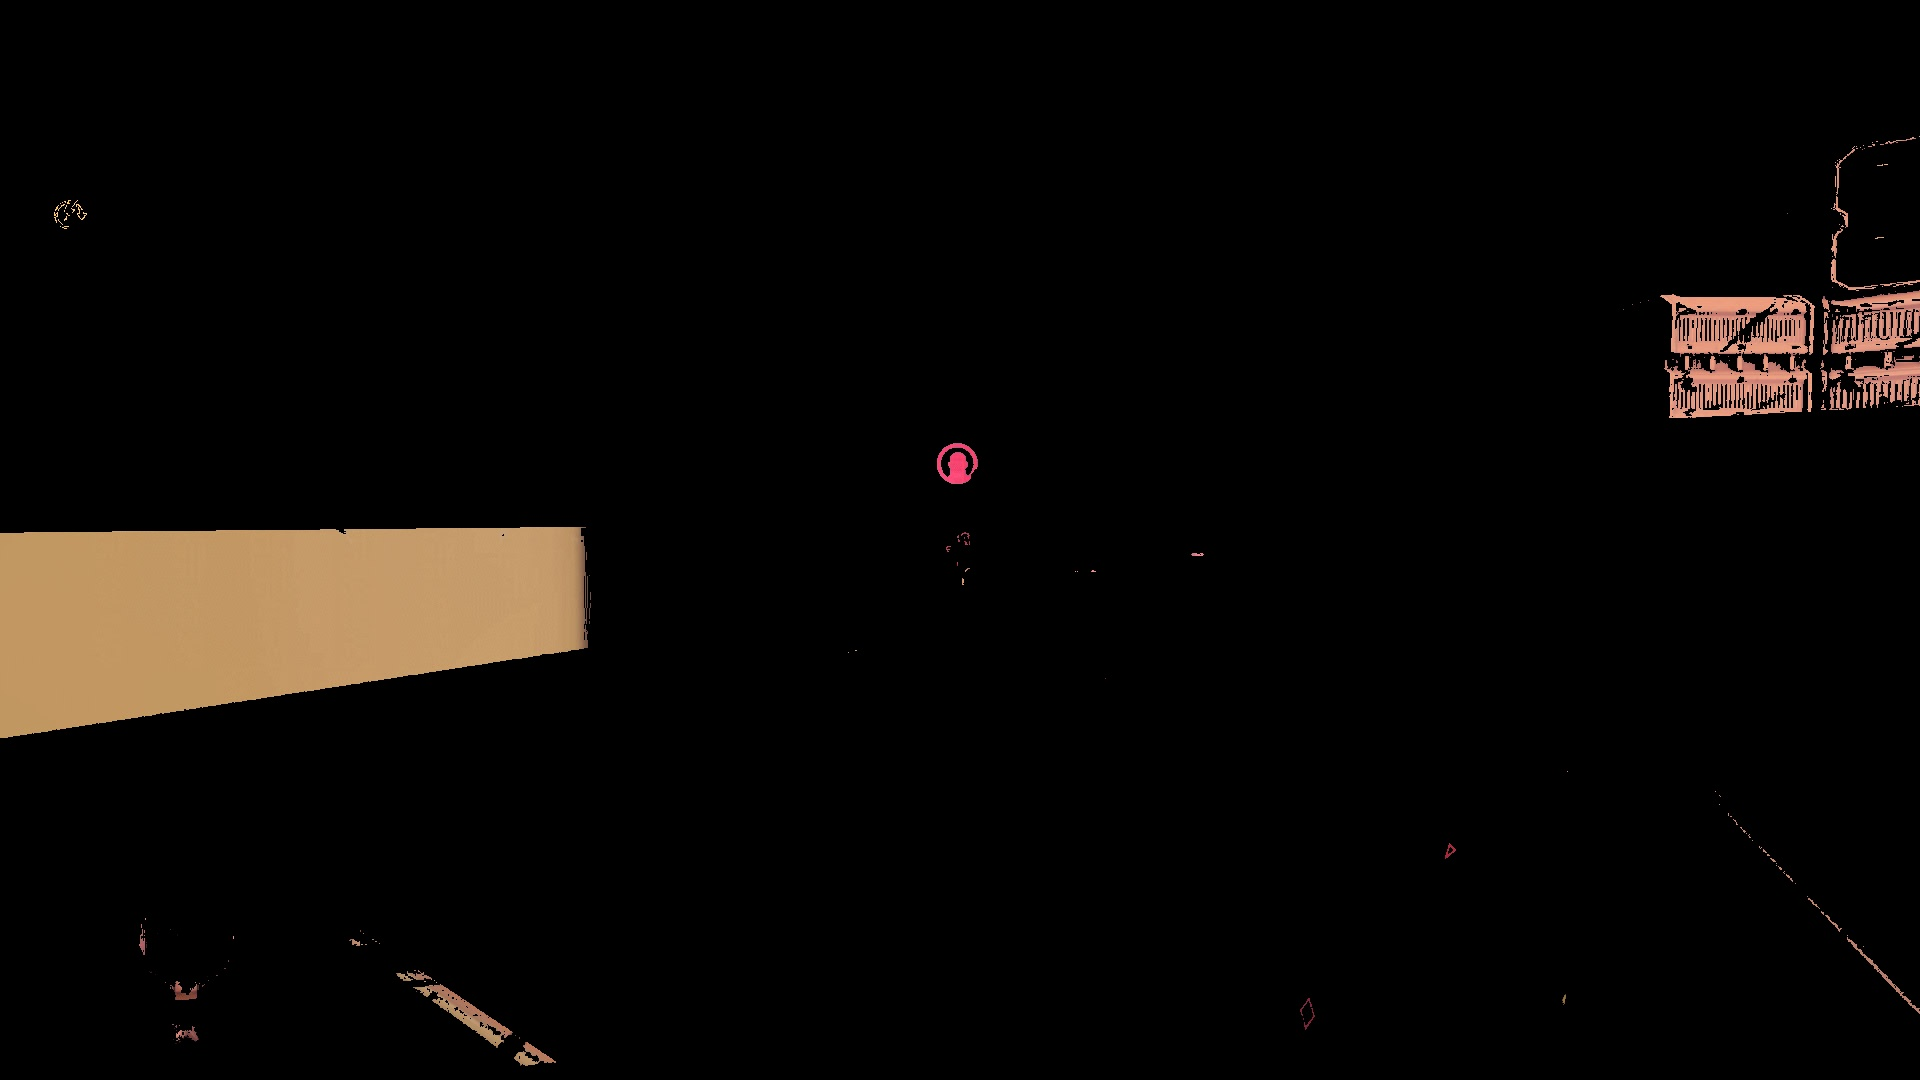widowmaker: (948, 531, 971, 554)
